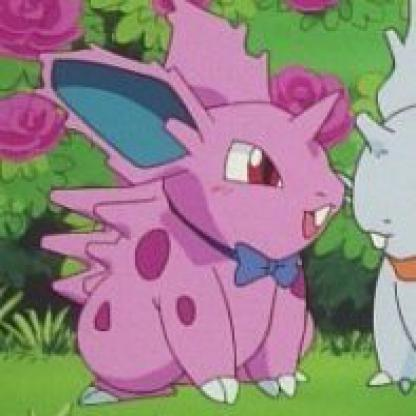Nidorino: (33, 22, 350, 415)
